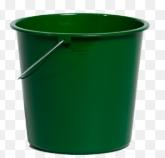SEAU: (8, 7, 161, 158)
